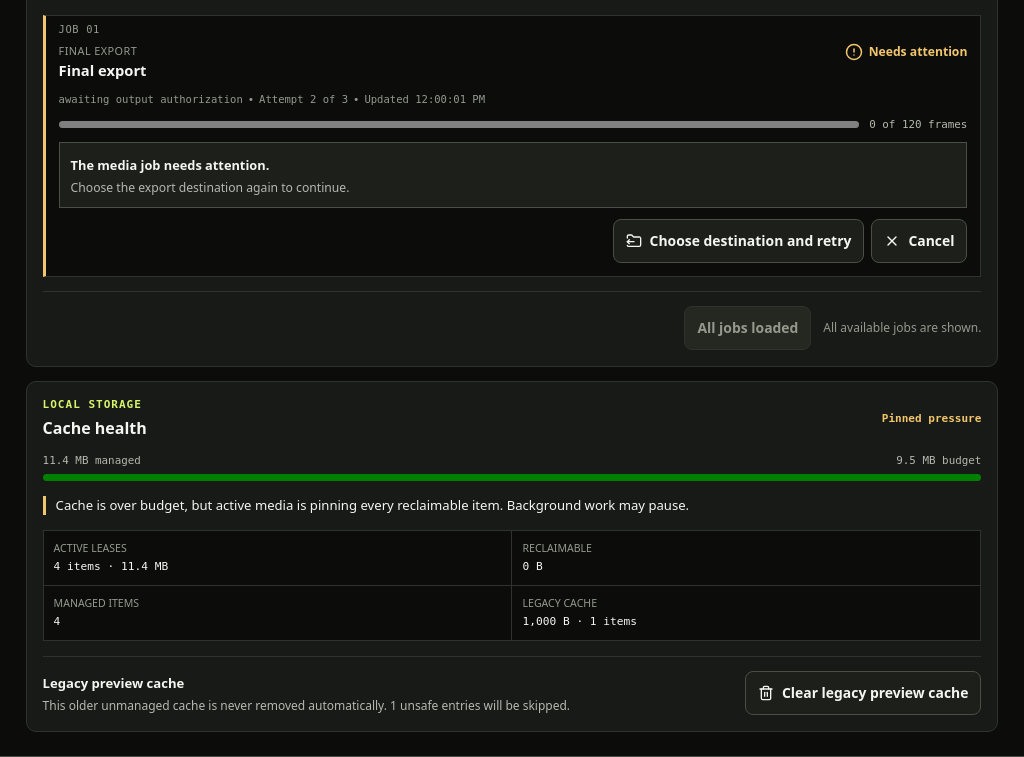
Scenario: JobCenter › keeps private diagnostics out of visible job and dialog recovery copy
This screenshot has width=1024, height=757.
(page scrolled)
Click the button "Clear legacy preview cache": (863, 693) [745,671,981,715]
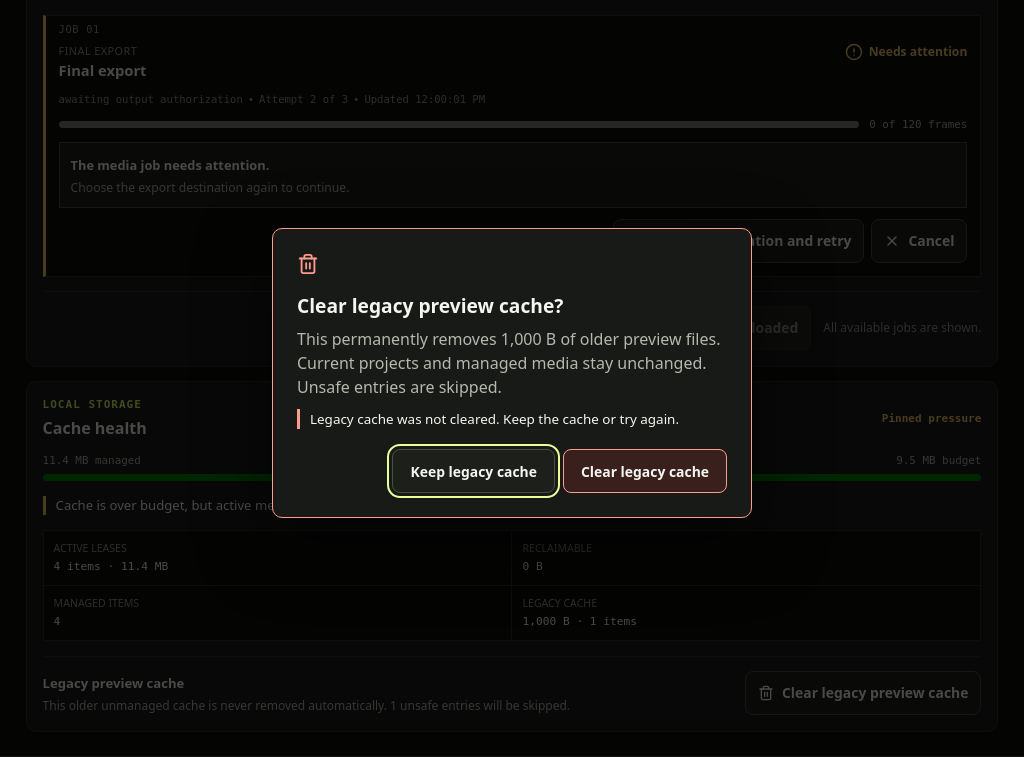
Check: the message shows "Legacy cache was not cleared", box [310,410,679,428]
